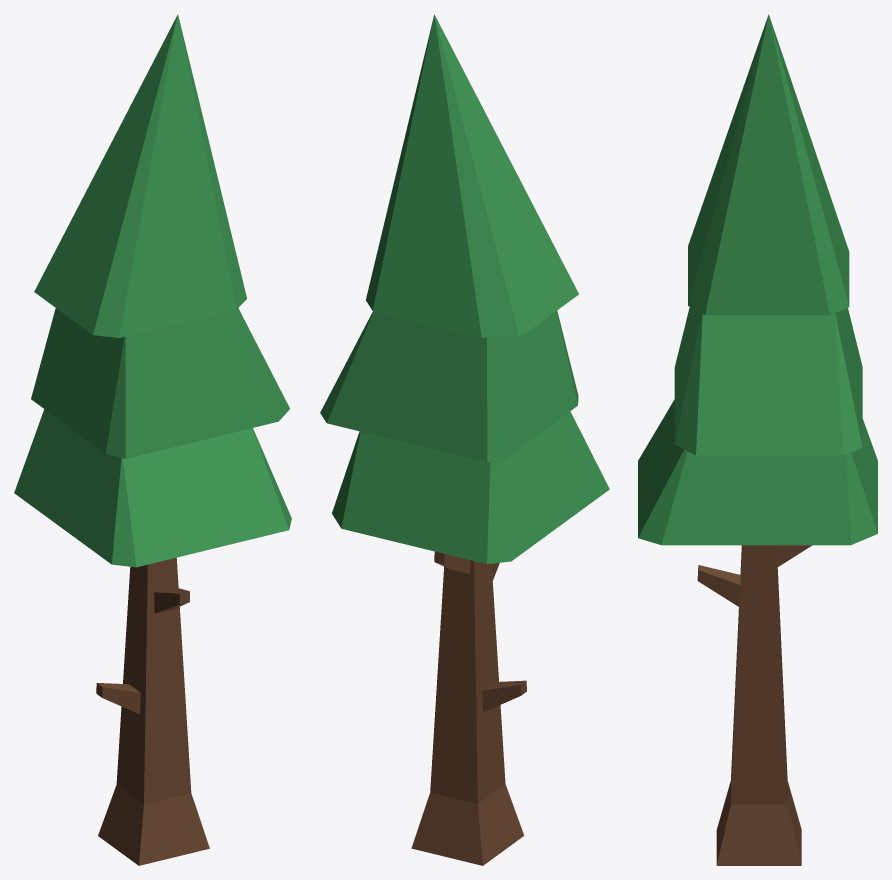
Rendered from tree_pine_tall.glb.
3 views of the same model, side by side, from view 1: azimuth 30°, elevation 25°; view 2: azimuth 150°, elevation 25°; view 3: azimuth 270°, elevation 25° (orthographic). The views are drawn at different scales.
Parts seen in each view (by area): view 1: tree_pineTallA_detailed; view 2: tree_pineTallA_detailed; view 3: tree_pineTallA_detailed.
Part boxes in pixels (box(x1,y1,x2,y2)): tree_pineTallA_detailed: box(14, 14, 291, 865); tree_pineTallA_detailed: box(320, 14, 609, 865); tree_pineTallA_detailed: box(638, 14, 877, 865).
Size of the model in its own units: 0.3862 by 1.53 by 0.392.
